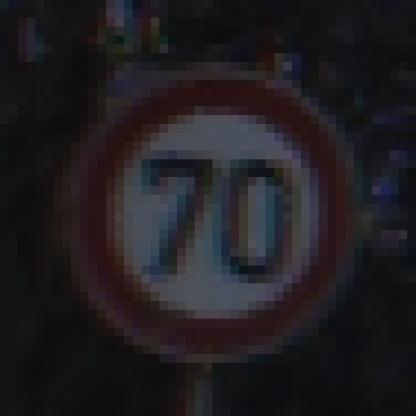Speed Limit -70-: (74, 64, 355, 366)
